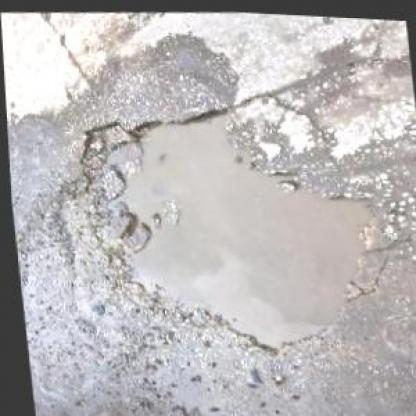pothole: (68, 89, 392, 366)
